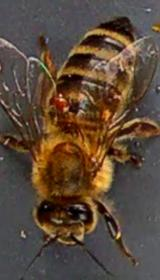varroa_mite: (48, 92, 72, 115)
